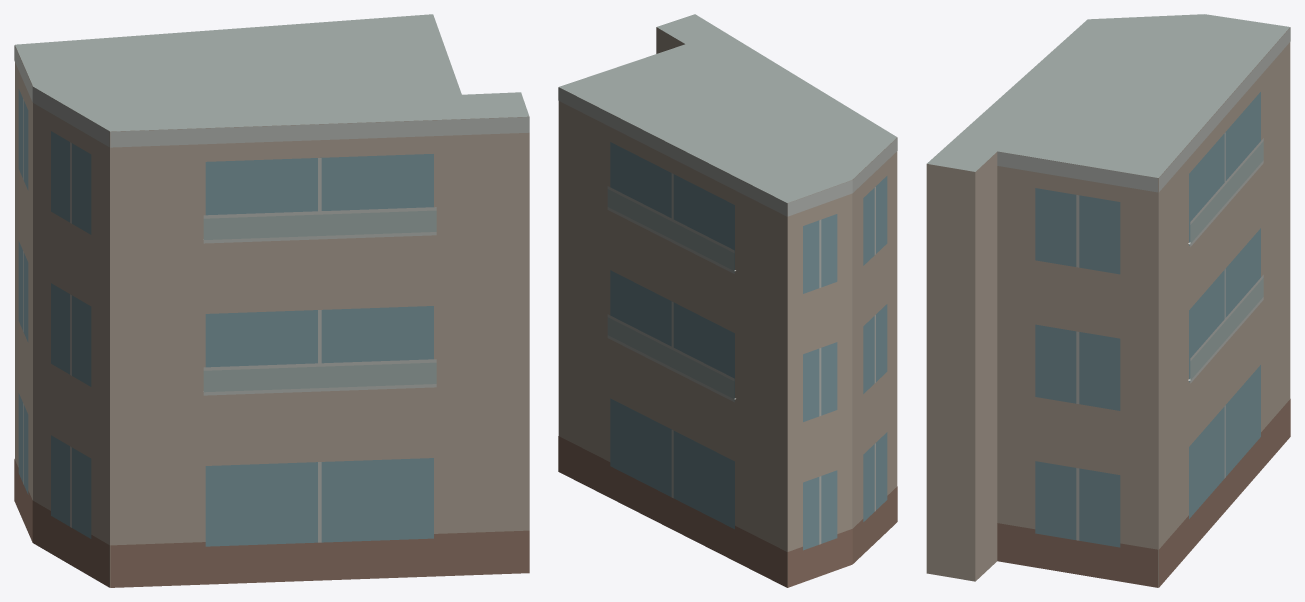
The model's file is survey-upis-32496115.glb.
3 renders of one model, left to right at view 1: azimuth 30°, elevation 25°; view 2: azimuth 150°, elevation 25°; view 3: azimuth 270°, elevation 25°, orthographic. The views are drawn at different scales.
Visible parts, largest first — view 1: survey-upis-32496115.tmp; view 2: survey-upis-32496115.tmp; view 3: survey-upis-32496115.tmp.
Part boxes in pixels (x1,y1,x2,y2): survey-upis-32496115.tmp: (14, 14, 529, 587); survey-upis-32496115.tmp: (558, 14, 897, 587); survey-upis-32496115.tmp: (926, 14, 1290, 587).
Size of the model in its own units: 5.94 by 6.9 by 5.56.
